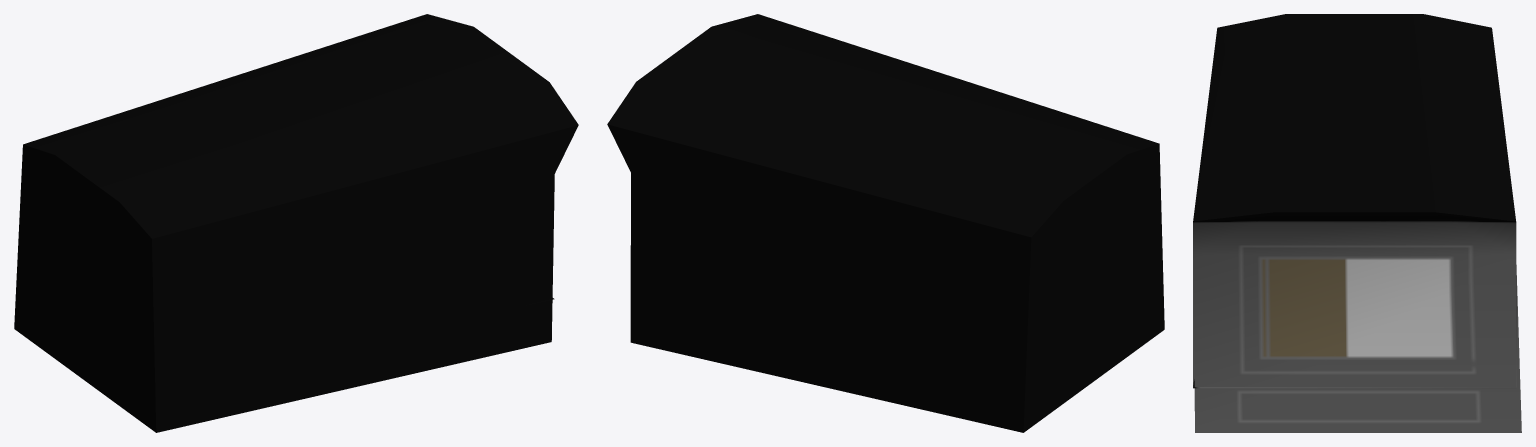
The model's file is mag-compass.glb.
3 views of the same model, side by side, from view 1: azimuth 30°, elevation 25°; view 2: azimuth 150°, elevation 25°; view 3: azimuth 270°, elevation 25° (orthographic). The views are drawn at different scales.
Parts seen in each view (by area): view 1: Casing; view 2: Casing; view 3: Casing, Interior.
Part boxes in pixels (left/top/right/bottom): Casing: left=14, top=14, right=578, bottom=432; Casing: left=607, top=14, right=1164, bottom=432; Casing: left=1193, top=14, right=1521, bottom=432; Interior: left=1193, top=260, right=1516, bottom=388.
Size of the model in its own units: 0.0852 by 0.043 by 0.0536.
Materials: 3 (3 with a texture image).
